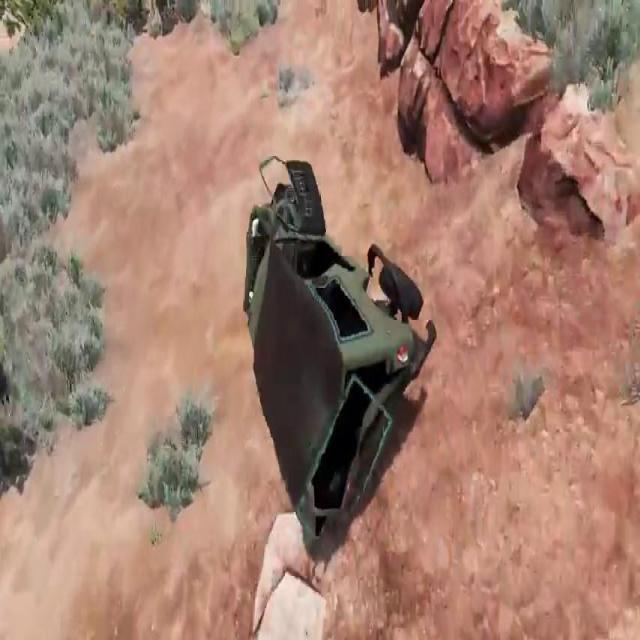severe: (240, 152, 436, 560)
